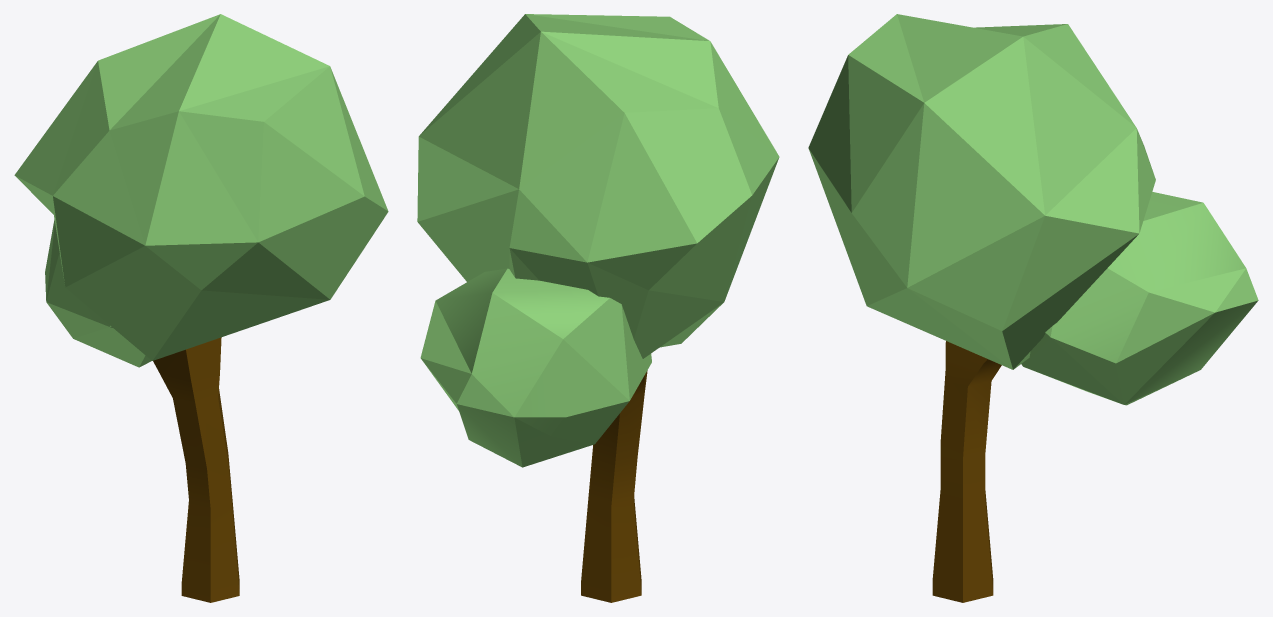
File: tree2.fbx
3 renders of one model, left to right at view 1: azimuth 30°, elevation 25°; view 2: azimuth 150°, elevation 25°; view 3: azimuth 270°, elevation 25°, orthographic. The views are drawn at different scales.
Visible parts, largest first — view 1: group3_pCube2; view 2: group3_pCube2; view 3: group3_pCube2.
Part boxes in pixels (box(x1,y1,x2,y2)): group3_pCube2: box(14, 14, 388, 602); group3_pCube2: box(417, 14, 779, 602); group3_pCube2: box(808, 14, 1258, 602).
Bounding box in the file's own units: 2.79 × 4.87 × 3.48.
